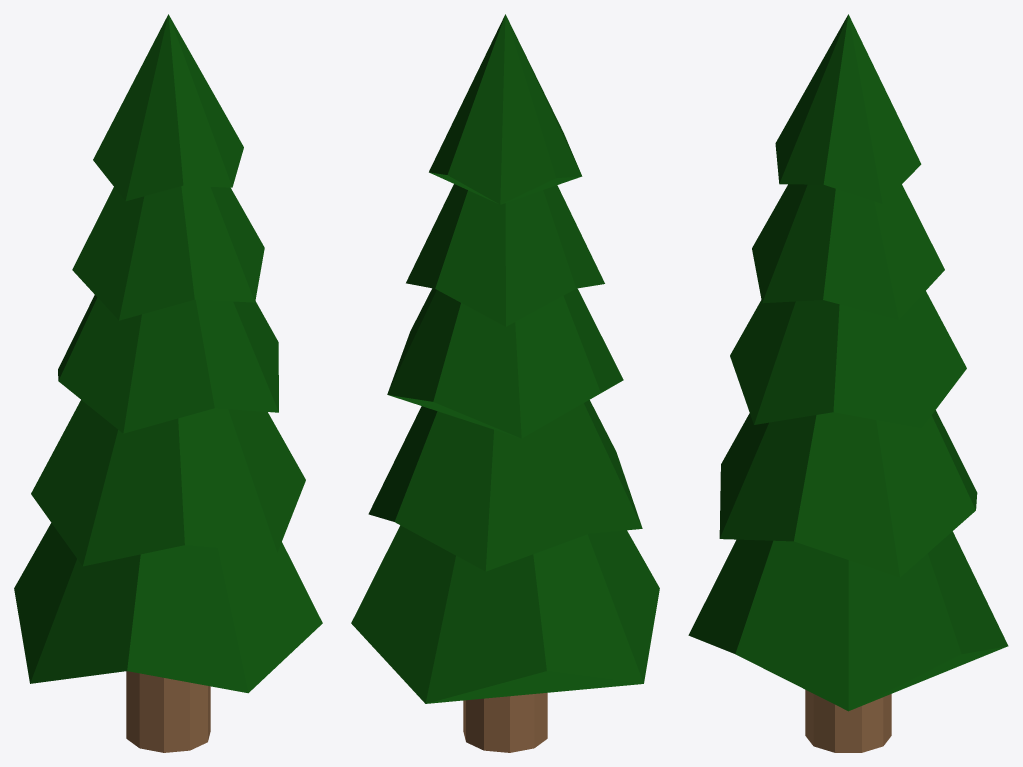
Rendered from Fir_2.fbx.
3 renders of one model, left to right at view 1: azimuth 30°, elevation 25°; view 2: azimuth 150°, elevation 25°; view 3: azimuth 270°, elevation 25°, orthographic.
Visible parts, largest first — view 1: Fir2_mesh; view 2: Fir2_mesh; view 3: Fir2_mesh.
Part boxes in pixels (left/top/right/bottom): Fir2_mesh: left=14, top=14, right=322, bottom=752; Fir2_mesh: left=351, top=14, right=659, bottom=752; Fir2_mesh: left=688, top=14, right=1008, bottom=752.
Size of the model in its own units: 415 by 1032 by 415.
